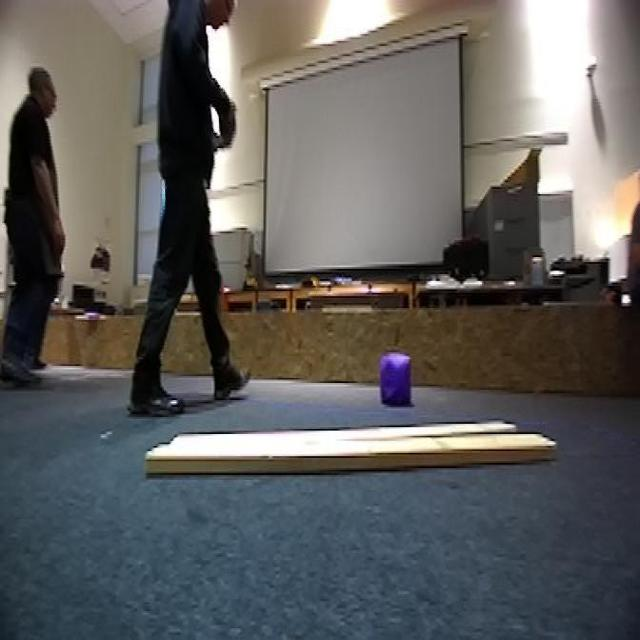frc_cube: (377, 356, 416, 407)
